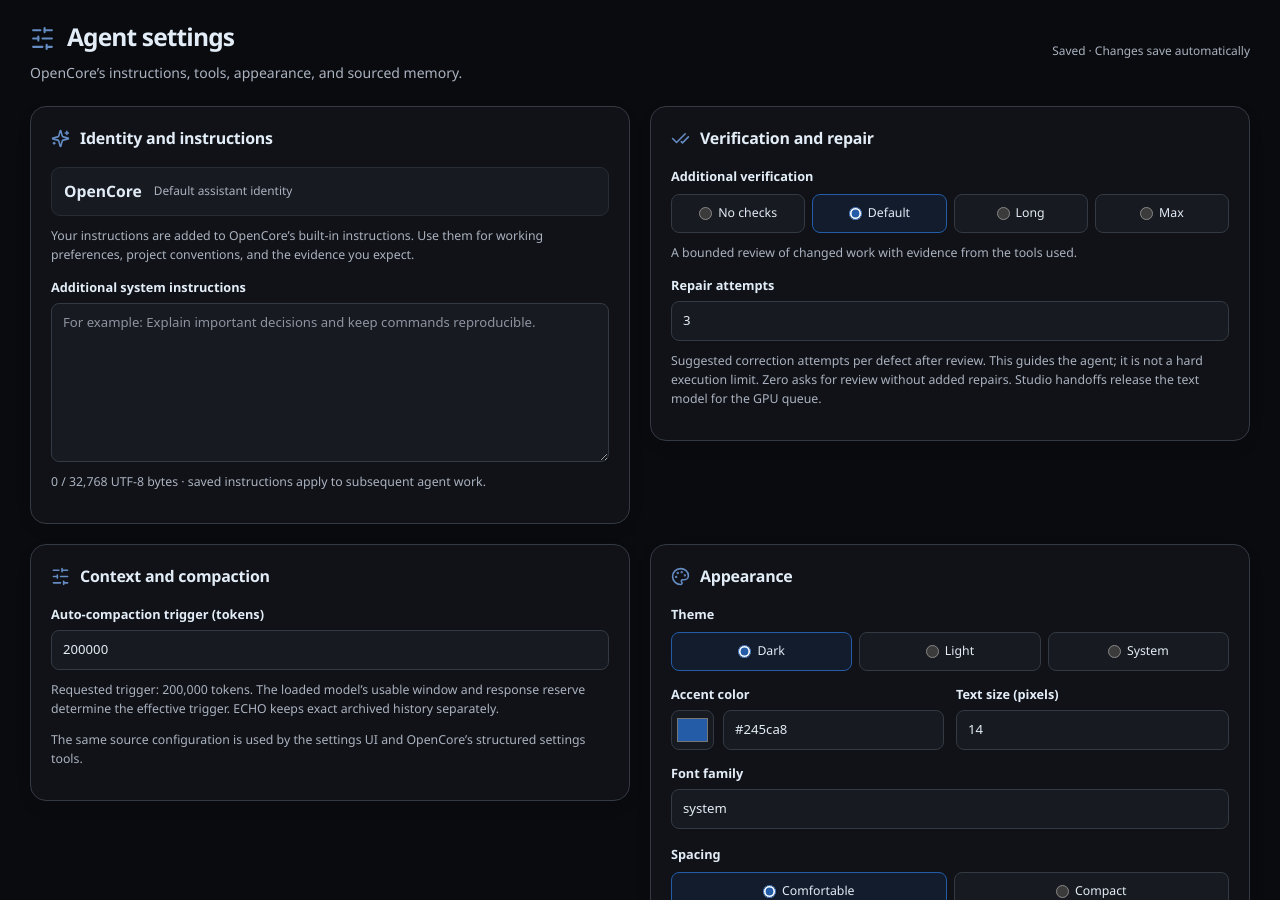
Test: AgentPlatformSettings › keeps a failed save editable and reports the backend error
Replace the text in the text box labelled "Additional system instructions" with "Useful instruction" at (330, 383), box [51, 304, 609, 462]
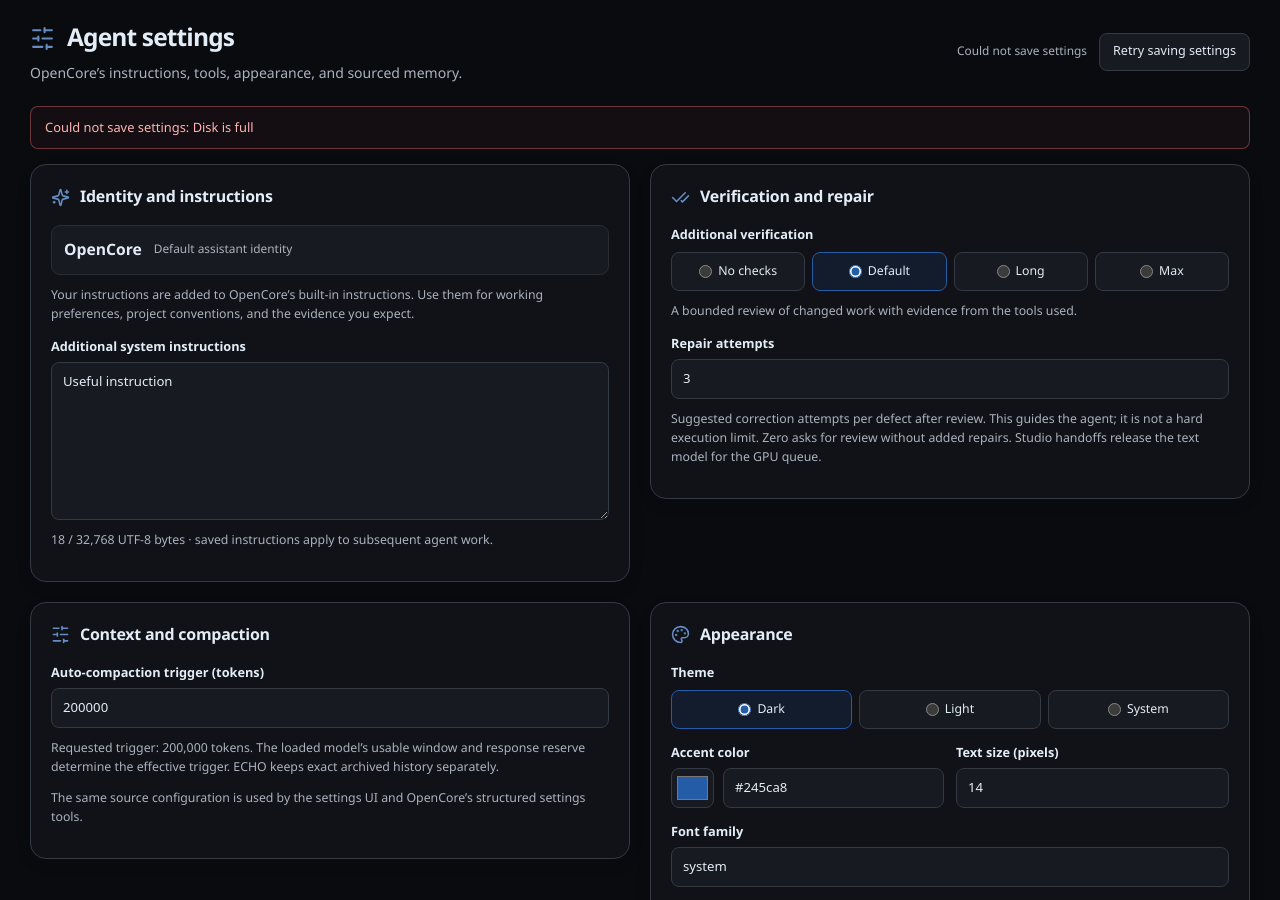
expect the message "Could not save settings: Disk is full" is shown: met, box [30, 106, 1250, 149]
expect the button "Retry saving settings" is enabled: met, box [1099, 33, 1250, 71]
